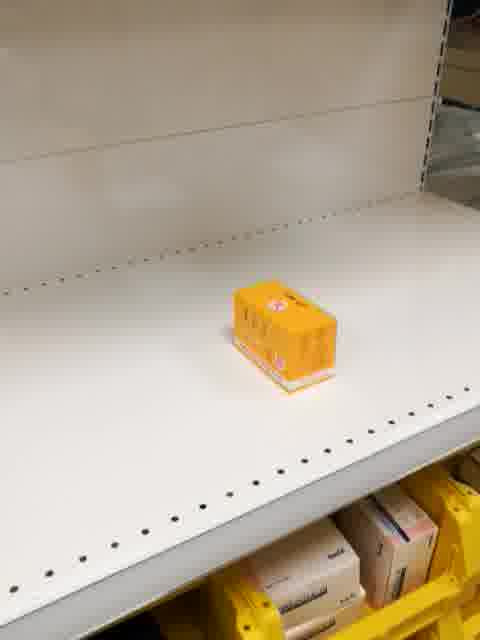jasminetea: (232, 280, 341, 396)
